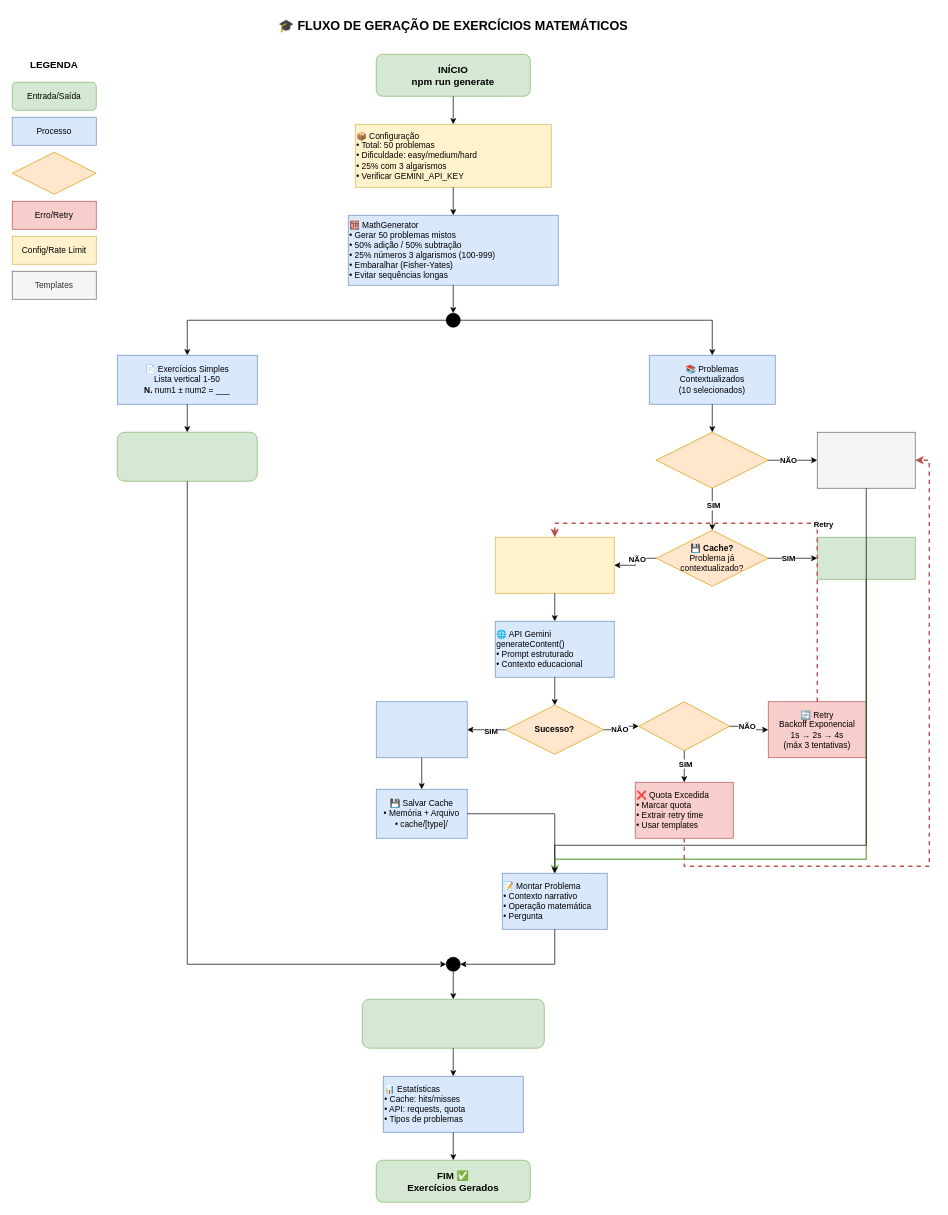
This 948x1215 diagram has some shape labels left out. Here are the shapes that lost their labels. From the top down, the box of each, then its label:
(12, 152, 96, 194): Decisão
(117, 432, 257, 481): 💾 Salvar Arquivos • exercicio-50-problemas.md • gabarito.md
(656, 432, 768, 488): IA Habilitada?
(817, 432, 915, 488): 🔧 Templates templateLibrary • Sem IA • Frases fixas
(495, 537, 614, 593): ⏱️ Rate Limiting • Verificar quota • Aguardar 6s (10 req/min) • lastRequestTime
(817, 537, 915, 579): ✅ Cache HIT Usar contexto salvo
(376, 701, 467, 758): ✓ Validar • 10-200 chars • Contém 'Cecília' • Sem palavras ruins • Sem operações
(638, 701, 730, 751): Erro 429? Quota?
(362, 999, 544, 1048): 💾 Salvar Contextualizados • problemas-contextualizados.md • gabarito.md
